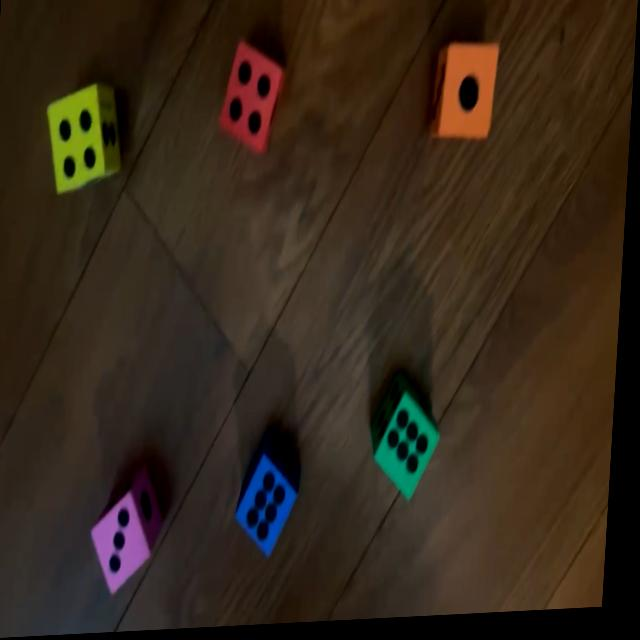blue_block: (239, 432, 307, 564)
red_block: (217, 43, 286, 160)
